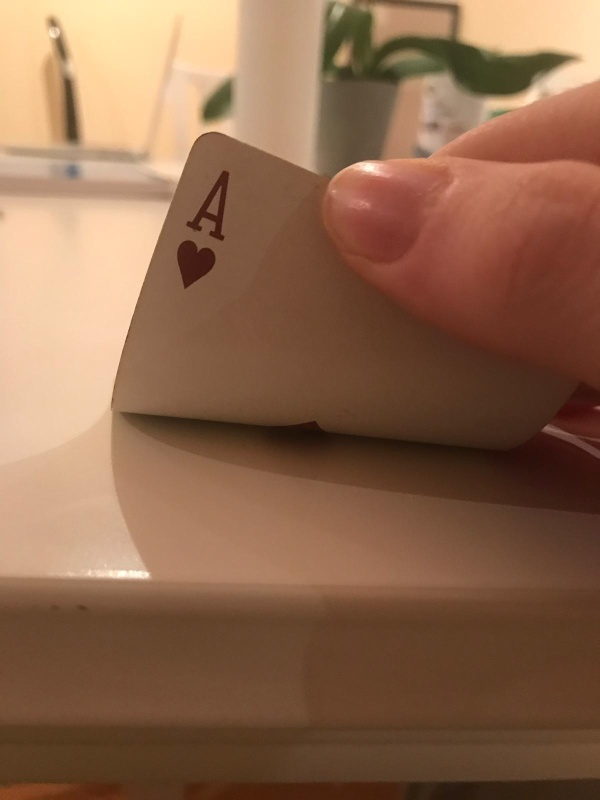Ha: (171, 161, 234, 300)
